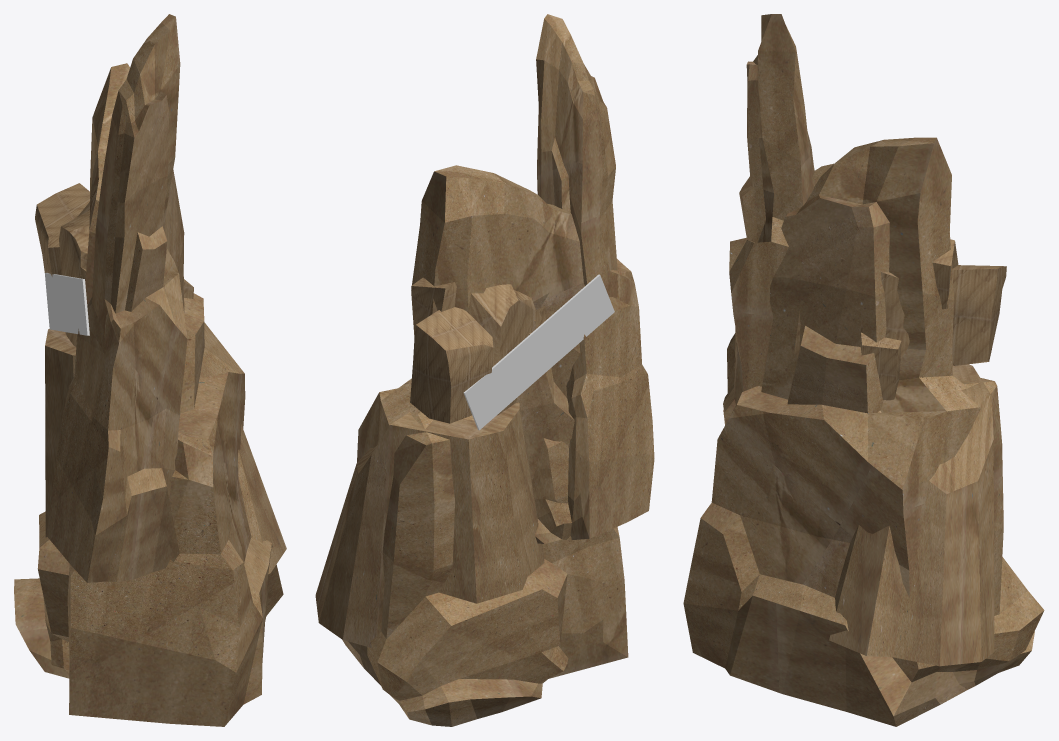
Rendered from piedrascanvas.fbx.
3 renders of one model, left to right at view 1: azimuth 30°, elevation 25°; view 2: azimuth 150°, elevation 25°; view 3: azimuth 270°, elevation 25°, orthographic. The views are drawn at different scales.
Parts seen in each view (by area): view 1: roca1_low__15_, roca1_low__16_, islaprincipaltierra_1__11_, roca2_low__5_, Piedra_3__10_; view 2: roca1_low__15_, roca1_low__16_, islaprincipaltierra_1__11_, roca2_low__5_, Piedra_3__10_; view 3: roca1_low__15_, islaprincipaltierra_1__11_, roca1_low__16_, roca2_low__5_.
Boxes of the visible parts, bbox=[...] form: roca1_low__15_: bbox=[14, 63, 283, 726]; roca1_low__16_: bbox=[46, 14, 187, 582]; islaprincipaltierra_1__11_: bbox=[45, 329, 286, 573]; roca2_low__5_: bbox=[35, 183, 193, 346]; Piedra_3__10_: bbox=[45, 273, 89, 335]; roca1_low__15_: bbox=[342, 165, 628, 726]; roca1_low__16_: bbox=[532, 14, 654, 543]; islaprincipaltierra_1__11_: bbox=[315, 402, 544, 647]; roca2_low__5_: bbox=[410, 277, 546, 423]; Piedra_3__10_: bbox=[463, 274, 614, 430]; roca1_low__15_: bbox=[683, 137, 1044, 726]; islaprincipaltierra_1__11_: bbox=[828, 364, 994, 666]; roca1_low__16_: bbox=[723, 14, 814, 424]; roca2_low__5_: bbox=[794, 239, 1006, 400].
Size of the model in its own units: 4865 by 11815 by 5962.
2 materials, 1 textured.
